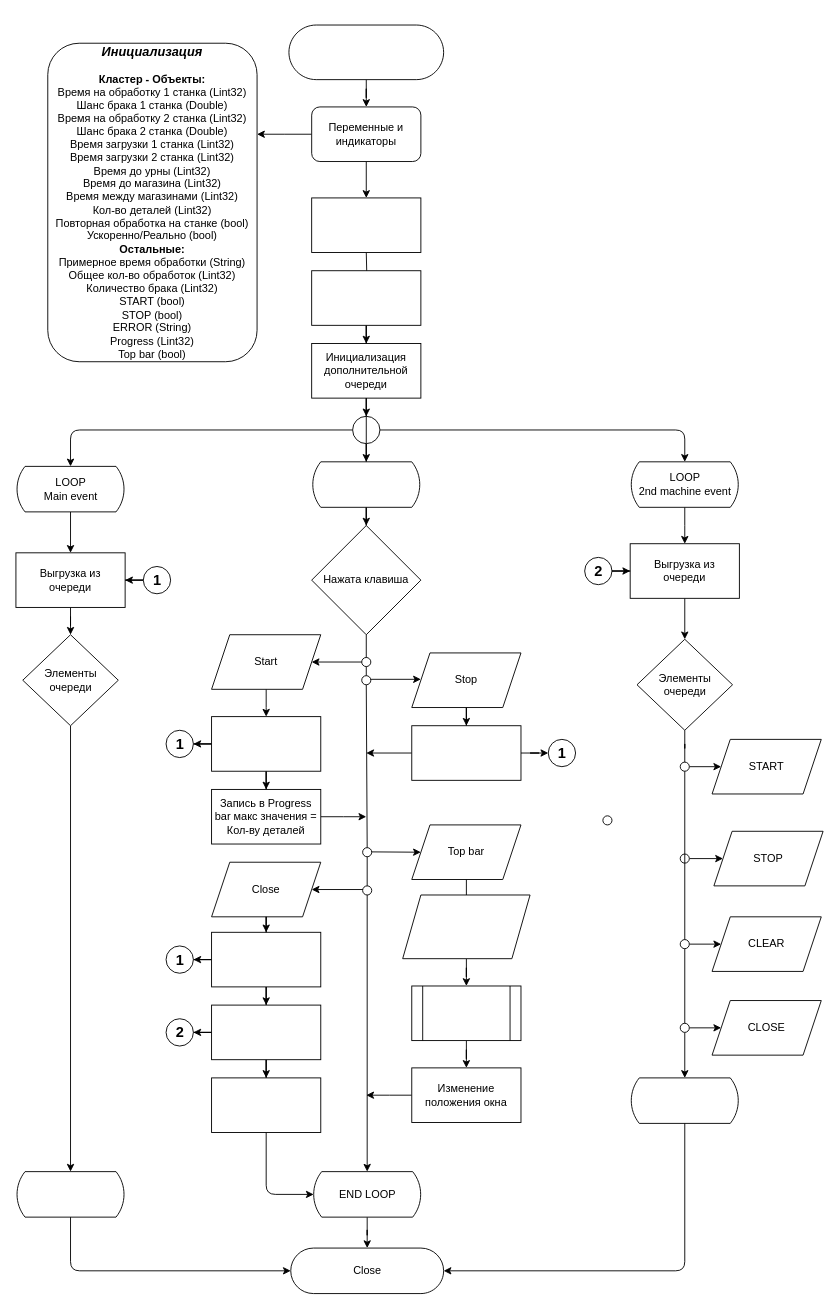
Some shapes in this 839 by 1309 pixel diagram are drawn without their labels. Each missing label, with the box of its shape:
Conect WinApi: (411, 985, 521, 1041)
END LOOP 2nd machine event: (629, 1077, 739, 1123)
END LOOP Main event: (15, 1171, 125, 1217)
LOOP Buttom click event: (311, 461, 421, 507)
Загрузка в главную очередь элемента Start: (211, 716, 321, 771)
Загрузка в главную очередь элемента Stop: (411, 725, 521, 780)
Загрузка в начало главной очереди элемента Close: (211, 931, 321, 987)
Загрузка в начало дополнительной очереди элемента Close: (211, 1004, 321, 1060)
Запуск программы: (288, 24, 444, 80)
Инициализация основной очереди: (311, 270, 421, 325)
Настройка положения окна: (311, 197, 421, 253)
Получение координат курсора: (402, 894, 530, 959)
Прерывание цикла: (211, 1077, 321, 1132)
